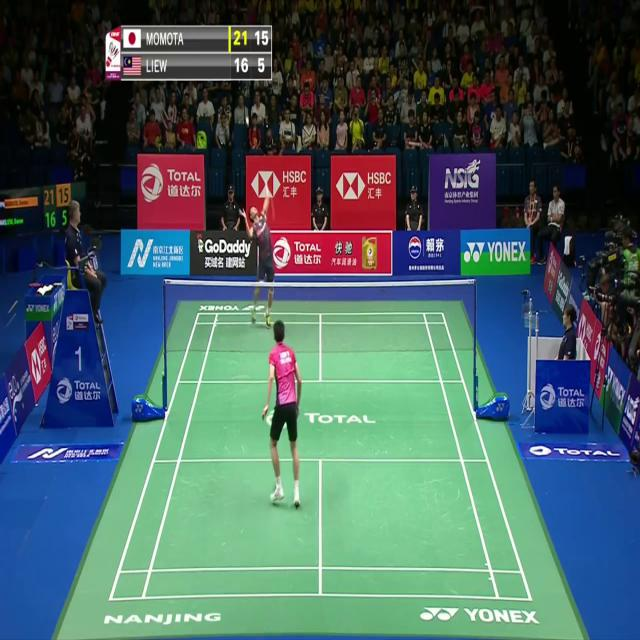Shuttlecock: (244, 115, 251, 127)
